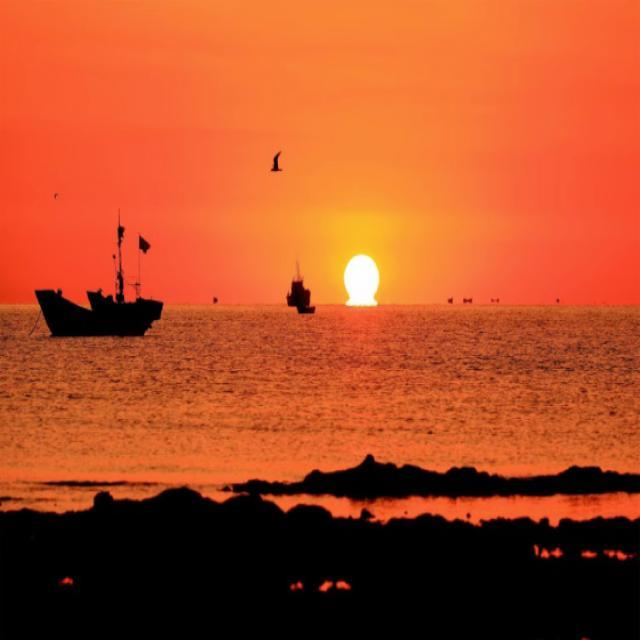bird: (270, 150, 286, 175)
